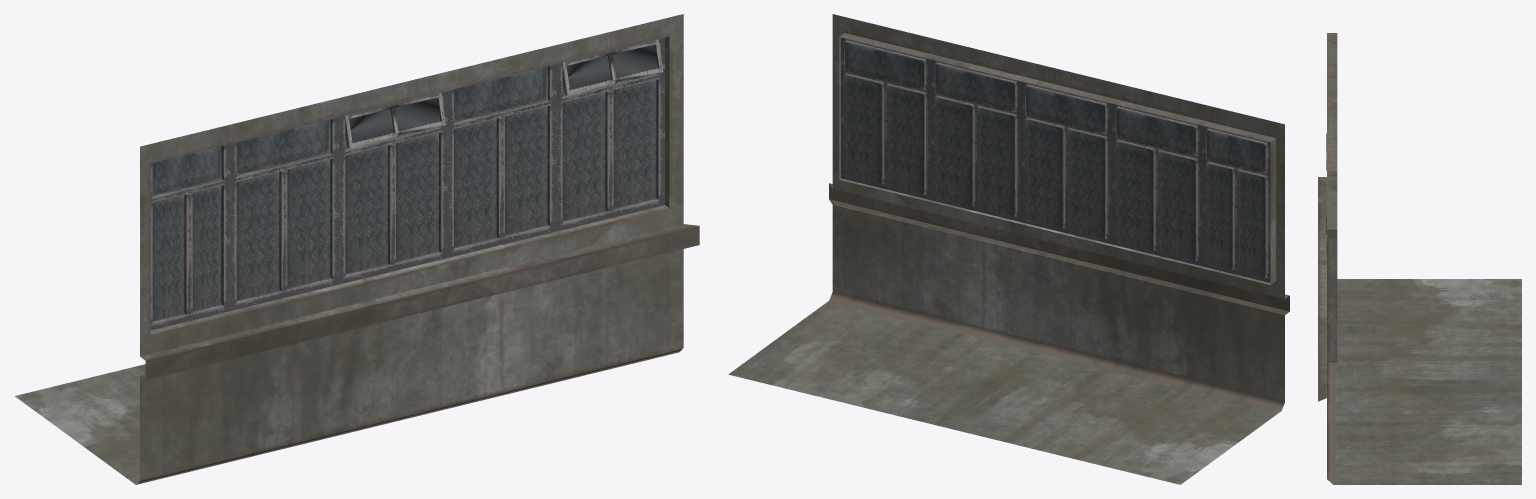
File: sm_floor_one_r.glb
3 views of the same model, side by side, from view 1: azimuth 30°, elevation 25°; view 2: azimuth 150°, elevation 25°; view 3: azimuth 270°, elevation 25° (orthographic). The views are drawn at different scales.
Parts seen in each view (by area): view 1: sm_floor_one_r; view 2: sm_floor_one_r; view 3: sm_floor_one_r.
Boxes of the visible parts, <box> form: sm_floor_one_r: <box>15,14,699,484</box>; sm_floor_one_r: <box>728,14,1289,484</box>; sm_floor_one_r: <box>1318,33,1521,484</box>.
Size of the model in its own units: 5.09 by 3 by 2.09.
Materials: 2 (2 with a texture image).
